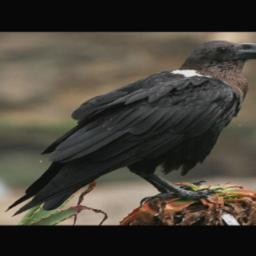Crow: (4, 39, 256, 216)
